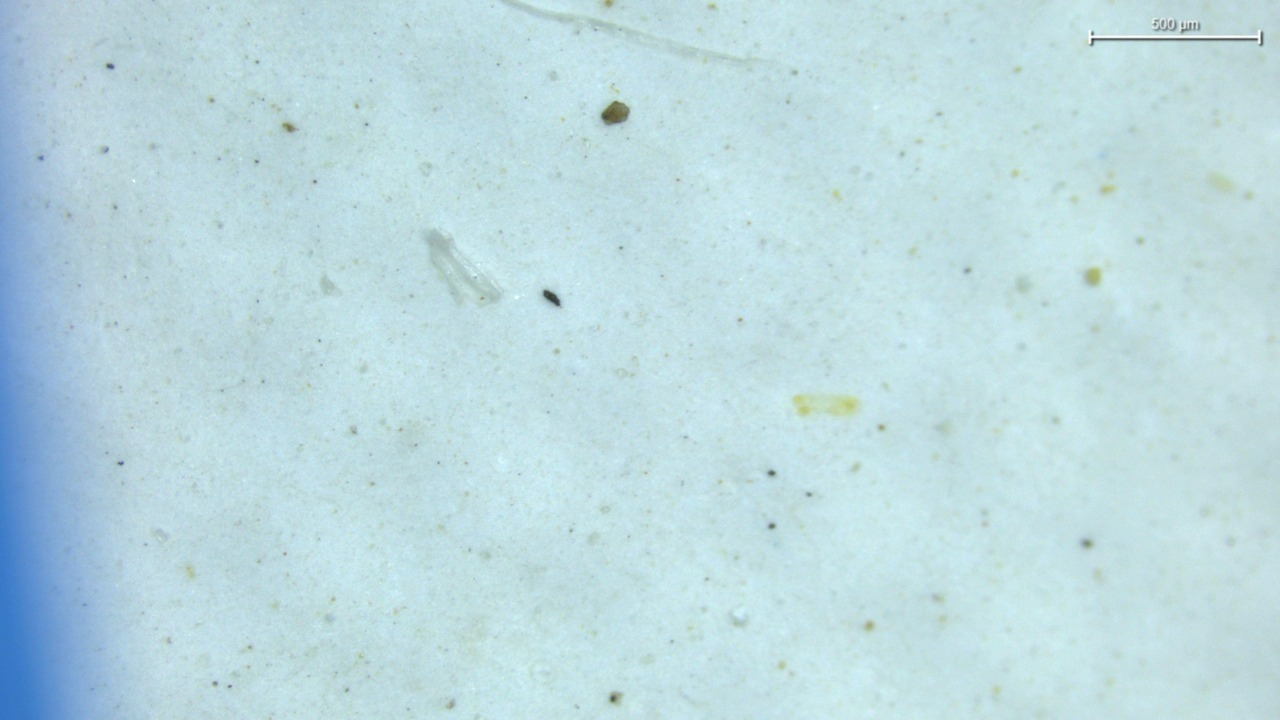microplastic_fragment: (423, 228, 509, 306)
